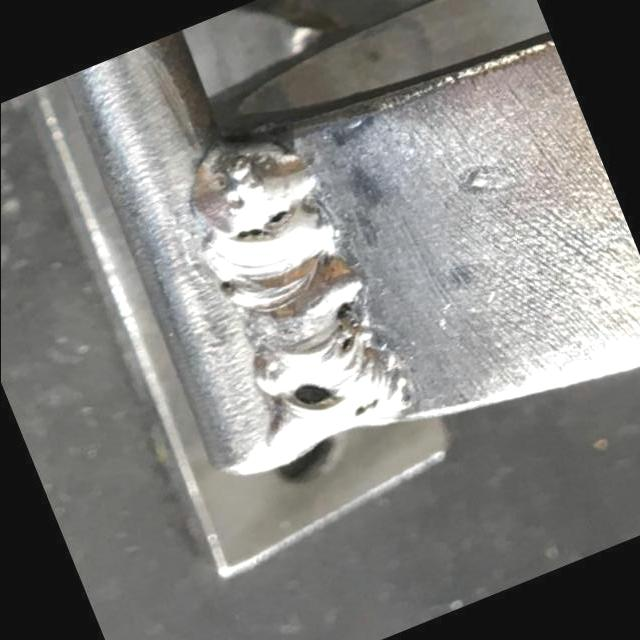defect: (281, 380, 350, 421), (232, 205, 293, 245), (323, 302, 360, 360), (216, 278, 235, 292)
